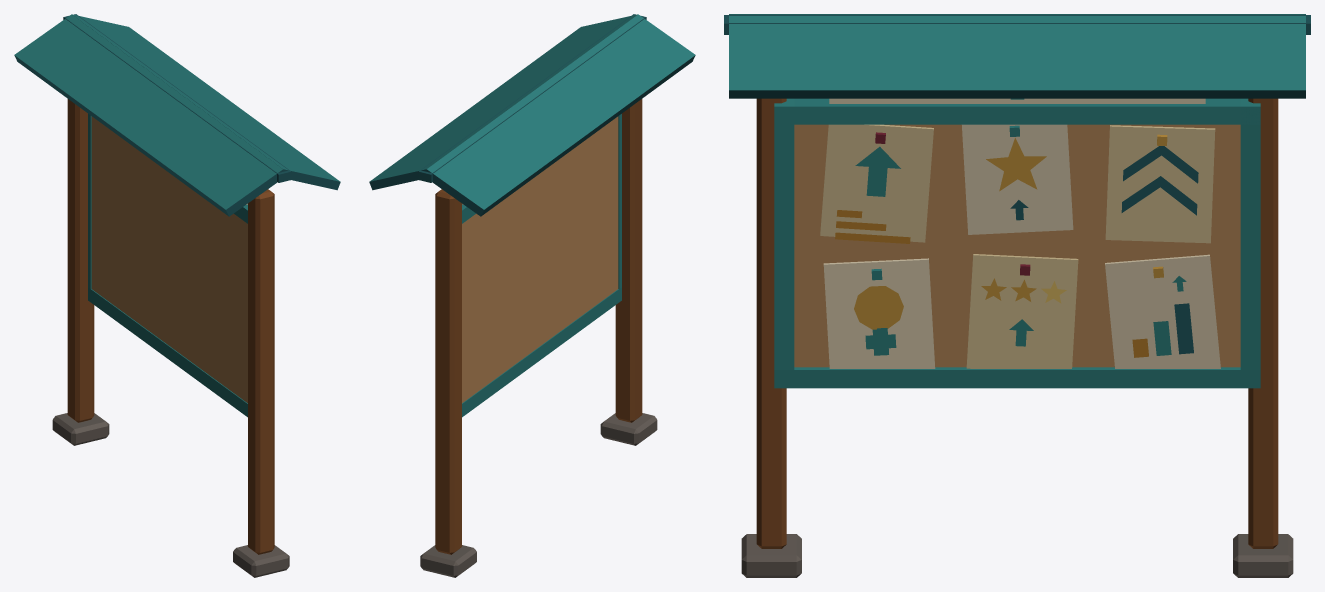
Rendered from upgrade_board.glb.
The picture shows the model from 3 angles, left to right: view 1: azimuth 30°, elevation 25°; view 2: azimuth 150°, elevation 25°; view 3: azimuth 270°, elevation 25°; orthographic projection. The views are drawn at different scales.
Visible parts, largest first — view 1: upgrade_board; view 2: upgrade_board; view 3: upgrade_board.
Part boxes in pixels (x1=…): upgrade_board: x1=14, y1=14, x2=340, y2=577; upgrade_board: x1=369, y1=14, x2=695, y2=577; upgrade_board: x1=724, y1=14, x2=1310, y2=577.
Size of the model in its own units: 0.7206 by 2.45 by 2.34.
